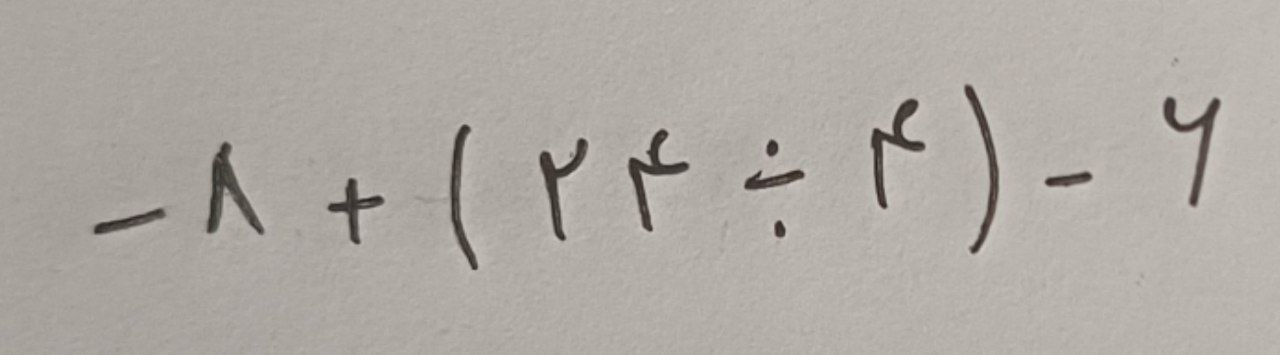character: (1164, 97, 1221, 210), (872, 99, 927, 210), (630, 128, 688, 233), (745, 138, 806, 237), (966, 84, 1000, 254), (207, 142, 265, 234), (539, 137, 589, 243), (448, 124, 480, 269), (326, 178, 386, 246), (94, 210, 166, 236), (1043, 171, 1092, 188)
